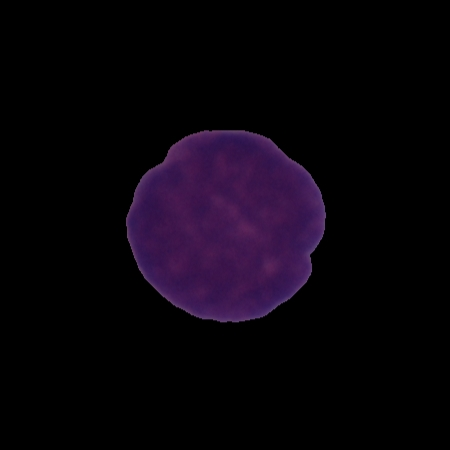ALL: (122, 124, 329, 328)
